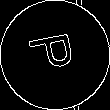P_E: (27, 32, 83, 78)
